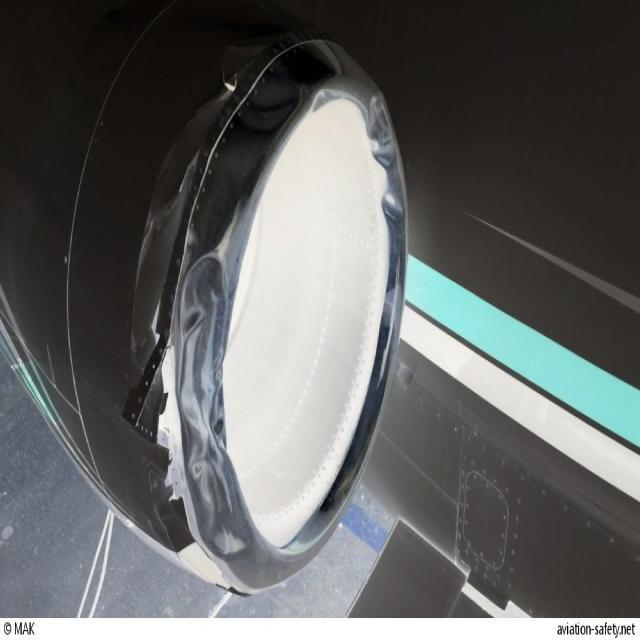dent: (178, 259, 237, 443), (191, 447, 249, 559), (239, 82, 304, 132), (367, 88, 399, 152), (367, 133, 405, 176), (378, 192, 407, 234)
